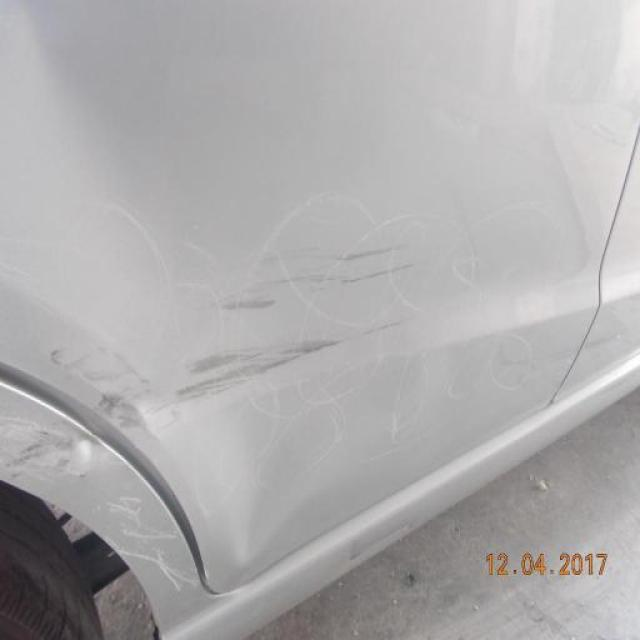dent: (136, 398, 183, 442), (62, 432, 102, 470)
scratch: (33, 184, 556, 464), (0, 403, 202, 613)
